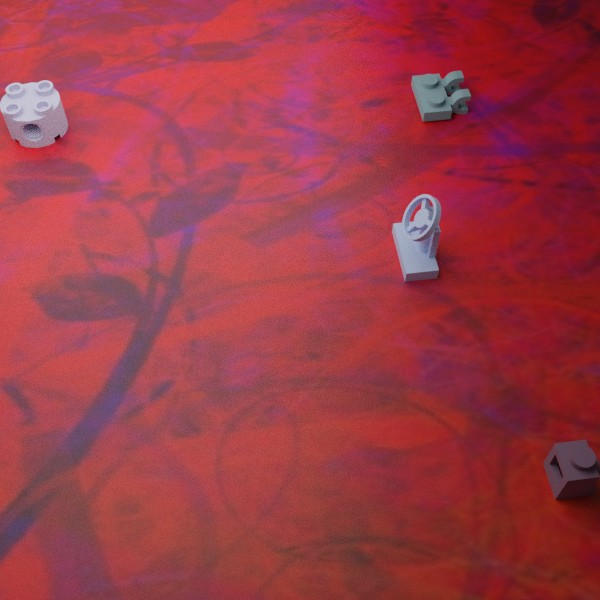lego: (0, 80, 67, 147), (392, 194, 441, 281), (543, 439, 599, 499), (411, 70, 471, 121)
